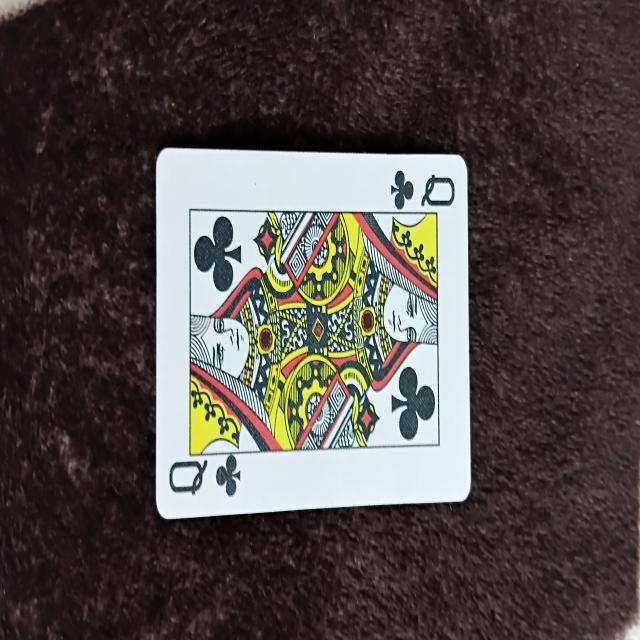QC: (156, 145, 468, 517)
